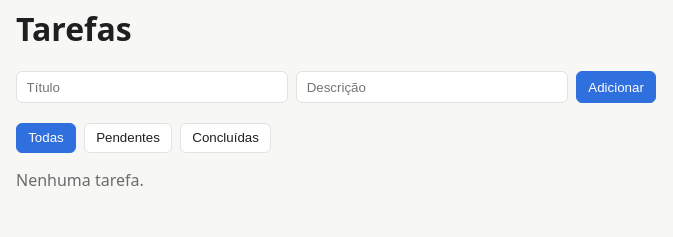
App › adds a task through the form
In the field with test id "title": x=152, y=87 [16,71,288,103], type "Comprar pão"
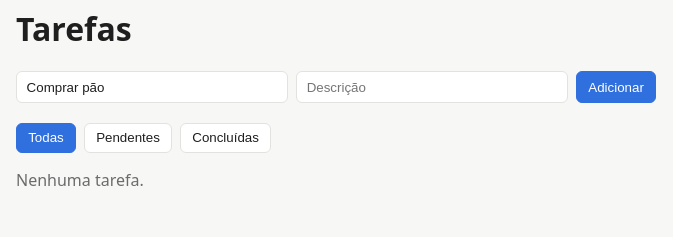
Submit the form, box [16,71,656,103]
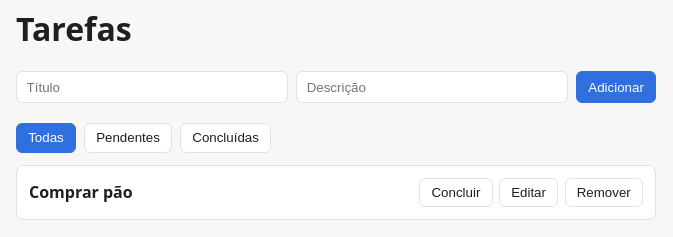
Check: the text "Comprar pão" is shown, box [29,182,133,204]
